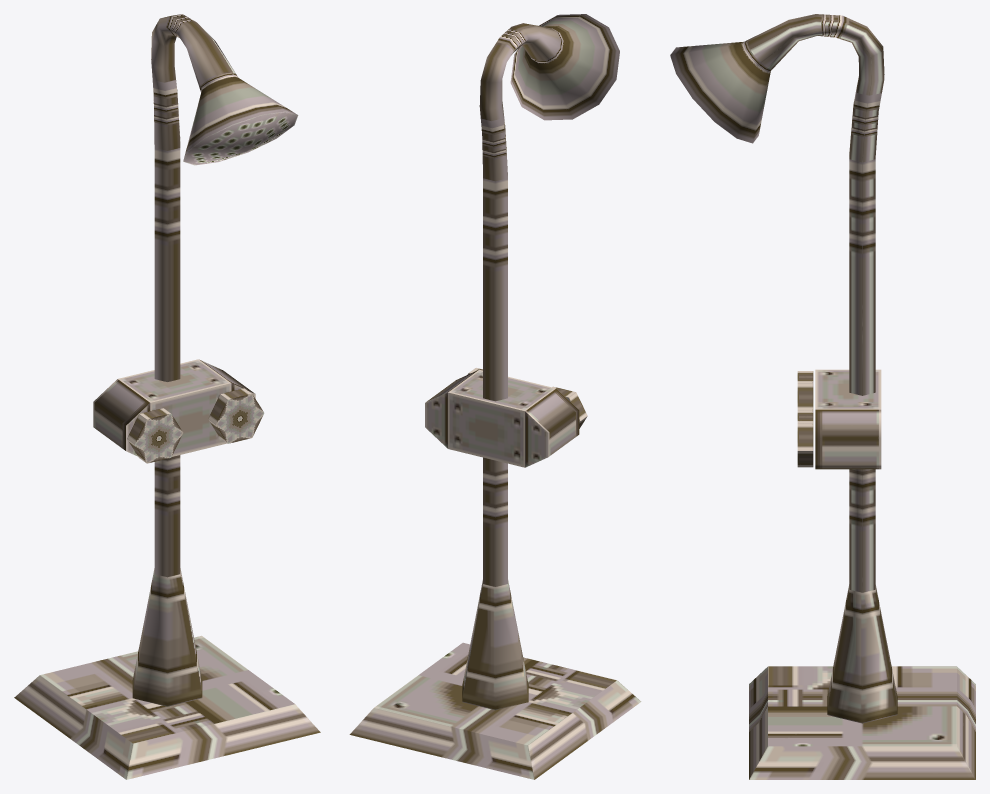
Rendered from int_oth_shower.dae.
The picture shows the model from 3 angles, left to right: view 1: azimuth 30°, elevation 25°; view 2: azimuth 150°, elevation 25°; view 3: azimuth 270°, elevation 25°; orthographic projection. The views are drawn at different scales.
Visible parts, largest first — view 1: int_oth_shower; view 2: int_oth_shower; view 3: int_oth_shower.
Boxes of the visible parts, x1,y1,x2,y2 form: int_oth_shower: (14, 14, 320, 779); int_oth_shower: (349, 14, 641, 779); int_oth_shower: (670, 14, 975, 779).
Bounding box in the file's own units: 19.2 × 66.79 × 25.89.
Materials: 1 (1 with a texture image).
